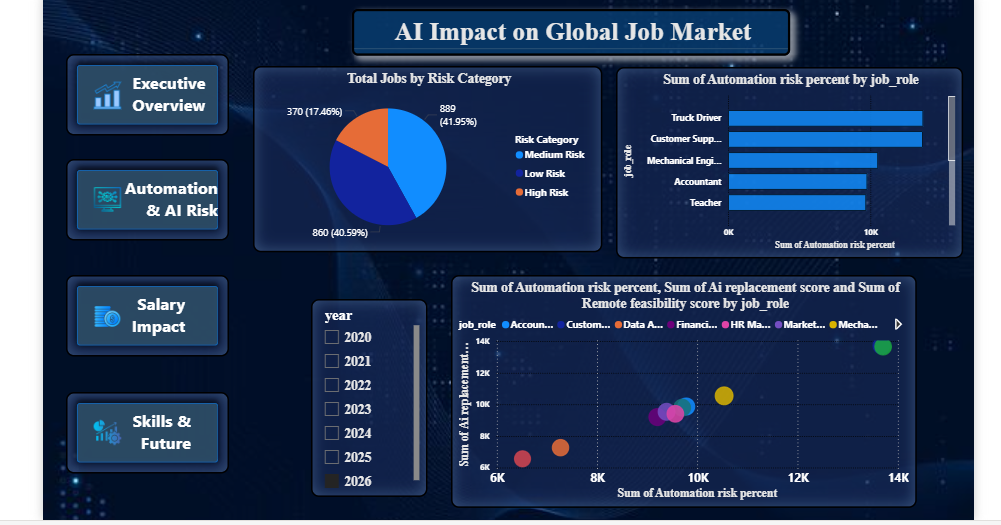

What the dashboard file says about the page in this screenshot:
{"tool":"powerbi","page":{"name":"Automation &Ai Risk","canvas":[1280,720],"ordinal":1},"visuals":[{"type":"shape","box":[32,80,224,112],"z":500},{"type":"shape","box":[32,544,224,112],"z":1000},{"type":"shape","box":[32,384,224,112],"z":2000},{"type":"shape","box":[32,224,224,112],"z":3000},{"type":"textbox","box":[424.4,17.4,601.7,64.3],"z":4000},{"type":"pieChart","fields":{"Category":["ai_job_replacement_2020_2026.Risk Category"],"Y":["ai_job_replacement_2020_2026.Total Jobs"]},"box":[288,96,480,256],"z":5000},{"type":"clusteredBarChart","fields":{"Category":["ai_job_replacement_2020_2026.job_role"],"Y":["Sum(ai_job_replacement_2020_2026.Automation risk percent)"]},"box":[787.8,97.4,476.5,262.6],"z":6000},{"type":"scatterChart","fields":{"X":["Sum(ai_job_replacement_2020_2026.Automation risk percent)"],"Y":["Sum(ai_job_replacement_2020_2026.Ai replacement score)"],"Size":["Sum(ai_job_replacement_2020_2026.Remote feasibility score)"],"Series":["ai_job_replacement_2020_2026.job_role"]},"box":[560,384,640,320],"z":7000},{"type":"slicer","fields":{"Values":["ai_job_replacement_2020_2026.year"]},"box":[368,416,160,272],"z":8000},{"type":"image","box":[64,112,48,48],"z":13000},{"type":"image","box":[64,256,48,48],"z":14000},{"type":"image","box":[64,416,48,48],"z":15000},{"type":"image","box":[64,576,48,48],"z":16000}]}

Visuals, with their boxes on the page's 1280x720 design canvas (x1, y1, x2, y2). These are canvas units, not pixel positions in the 1001x525 screenshot, which may show the page scaled, cropped or inside an application window:
shape: l=32, t=80, r=256, b=192
shape: l=32, t=544, r=256, b=656
shape: l=32, t=384, r=256, b=496
shape: l=32, t=224, r=256, b=336
textbox: l=424, t=17, r=1026, b=82
pieChart - ai_job_replacement_2020_2026.Risk Category x ai_job_replacement_2020_2026.Total Jobs: l=288, t=96, r=768, b=352
clusteredBarChart - ai_job_replacement_2020_2026.job_role x Sum(ai_job_replacement_2020_2026.Automation risk percent): l=788, t=97, r=1264, b=360
scatterChart - Sum(ai_job_replacement_2020_2026.Automation risk percent) x Sum(ai_job_replacement_2020_2026.Ai replacement score): l=560, t=384, r=1200, b=704
slicer - ai_job_replacement_2020_2026.year: l=368, t=416, r=528, b=688
image: l=64, t=112, r=112, b=160
image: l=64, t=256, r=112, b=304
image: l=64, t=416, r=112, b=464
image: l=64, t=576, r=112, b=624
